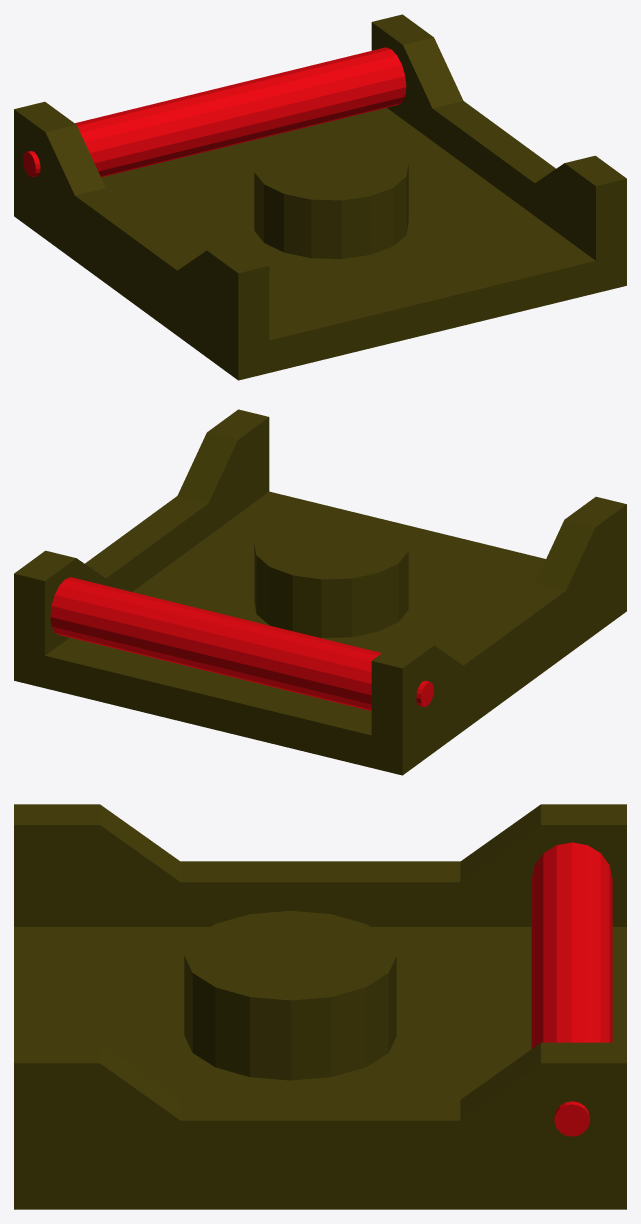
Rendered from button4_2.fbx.
The picture shows the model from 3 angles, top to bottom: view 1: azimuth 30°, elevation 25°; view 2: azimuth 150°, elevation 25°; view 3: azimuth 270°, elevation 25°; orthographic projection. The views are drawn at different scales.
Visible parts, largest first — view 1: Cylinder; view 2: Cylinder; view 3: Cylinder.
Part boxes in pixels (x1,y1,x2,y2): Cylinder: (14, 14, 626, 380); Cylinder: (14, 409, 626, 775); Cylinder: (14, 804, 626, 1209).
Bounding box in the file's own units: 205 × 52.68 × 200.
